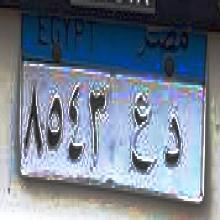3: (86, 85, 109, 167)
4: (66, 84, 84, 168)
5: (46, 92, 64, 155)
8: (22, 84, 42, 162)
ain: (130, 93, 153, 181)
daal: (161, 113, 183, 179)
